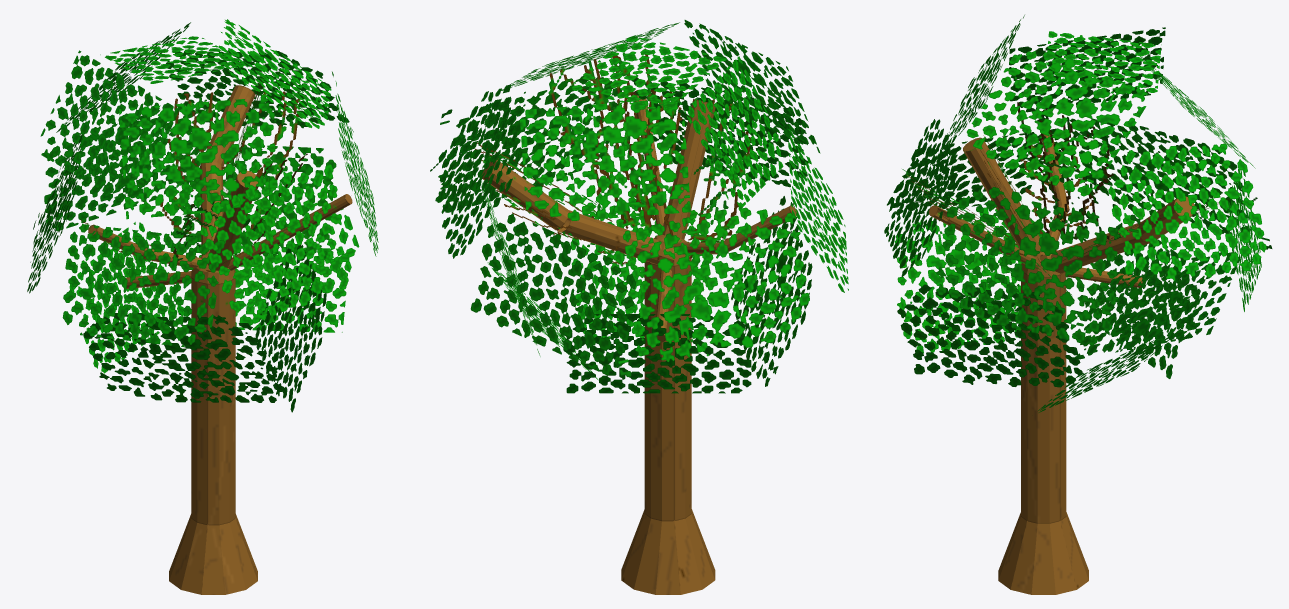
The model's file is oak_tree.fbx.
3 renders of one model, left to right at view 1: azimuth 30°, elevation 25°; view 2: azimuth 150°, elevation 25°; view 3: azimuth 270°, elevation 25°, orthographic. The views are drawn at different scales.
Visible parts, largest first — view 1: cube, cube_14, cube_4, cylinder, cube_18, cube_16, cone, cube_10, cube_8, cube_21, cube_20, cube_12 (+12 smaller); view 2: cube_9, cube_17, cube_10, cylinder, cube_7, cone, cube_8, cube_16, cube_11, cube_15, cube_14, cube_18 (+14 smaller); view 3: cube_11, cube_8, cube_12, cylinder, cube_21, cube_20, cone, cube_18, cube_9, cube, cube_16, cube_15 (+14 smaller).
Part boxes in pixels (bbox=[...]): cube: bbox=[200, 164, 359, 323]; cube_14: bbox=[119, 99, 278, 219]; cube_4: bbox=[62, 224, 224, 347]; cylinder: bbox=[191, 270, 235, 525]; cube_18: bbox=[83, 313, 284, 402]; cube_16: bbox=[40, 50, 179, 201]; cone: bbox=[169, 514, 257, 594]; cube_10: bbox=[44, 103, 203, 231]; cube_8: bbox=[166, 50, 349, 128]; cube_21: bbox=[255, 245, 326, 412]; cube_20: bbox=[170, 144, 336, 258]; cube_12: bbox=[218, 19, 331, 128]; cube_9: bbox=[607, 207, 809, 376]; cube_17: bbox=[520, 99, 690, 220]; cube_10: bbox=[470, 213, 635, 375]; cylinder: bbox=[644, 259, 691, 521]; cube_7: bbox=[563, 314, 751, 393]; cone: bbox=[621, 509, 715, 594]; cube_8: bbox=[438, 84, 520, 258]; cube_16: bbox=[684, 56, 783, 210]; cube_11: bbox=[430, 76, 621, 212]; cube_15: bbox=[571, 36, 726, 112]; cube_14: bbox=[684, 20, 820, 153]; cube_18: bbox=[731, 196, 812, 386]; cube_11: bbox=[936, 187, 1140, 345]; cube_8: bbox=[1108, 143, 1266, 280]; cube_12: bbox=[966, 51, 1147, 196]; cylinder: bbox=[1021, 272, 1066, 523]; cube_21: bbox=[897, 284, 1082, 387]; cube_20: bbox=[1075, 252, 1240, 359]; cone: bbox=[998, 512, 1088, 594]; cube_18: bbox=[894, 207, 1044, 353]; cube_9: bbox=[1069, 118, 1272, 249]; cube: bbox=[884, 119, 959, 277]; cube_16: bbox=[1009, 27, 1165, 112]; cube_15: bbox=[1045, 31, 1161, 92].
Bounding box in the file's own units: 163 × 216 × 146.
1 material, 1 textured.
